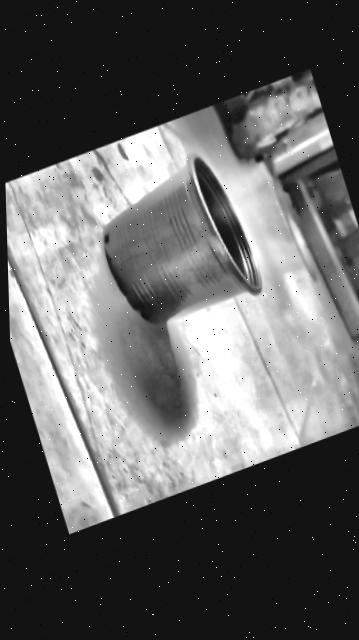pot: (86, 140, 264, 344)
